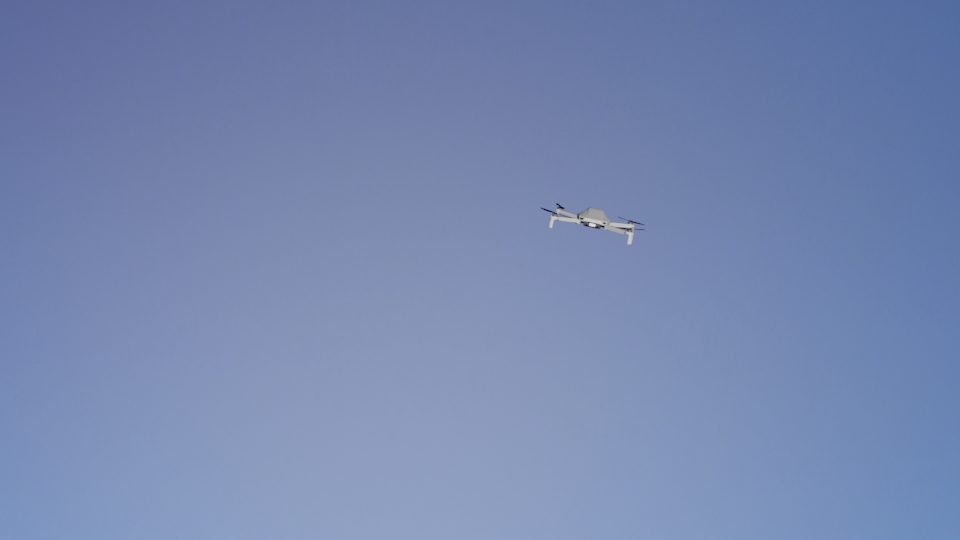drone: (544, 203, 647, 247)
